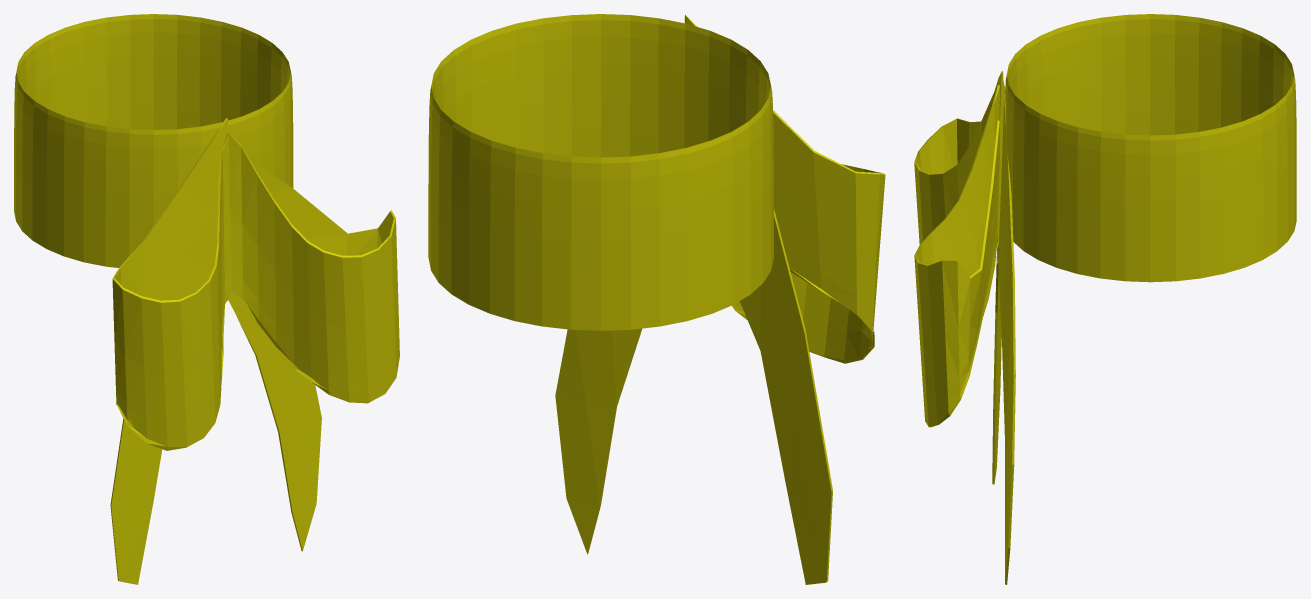
Rendered from bant_yellow.dae.
3 views of the same model, side by side, from view 1: azimuth 30°, elevation 25°; view 2: azimuth 150°, elevation 25°; view 3: azimuth 270°, elevation 25° (orthographic). The views are drawn at different scales.
Visible parts, largest first — view 1: Circle; view 2: Circle; view 3: Circle.
Part boxes in pixels (x1=…): Circle: x1=14, y1=14, x2=399, y2=584; Circle: x1=428, y1=14, x2=885, y2=584; Circle: x1=914, y1=14, x2=1296, y2=584.
Size of the model in its own units: 0.8977 by 1 by 1.37.
